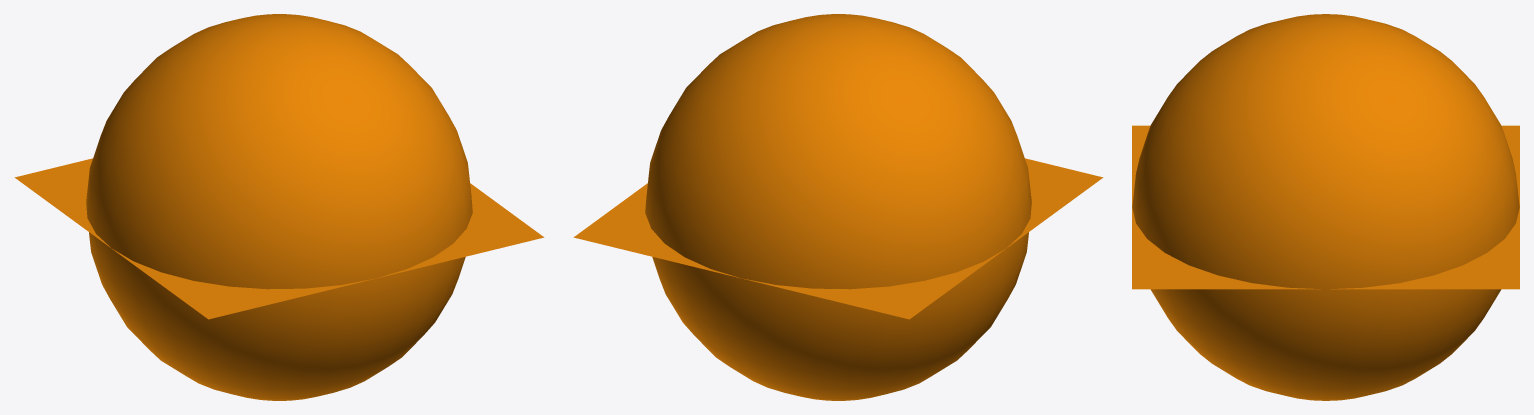
The model's file is projects.glb.
3 renders of one model, left to right at view 1: azimuth 30°, elevation 25°; view 2: azimuth 150°, elevation 25°; view 3: azimuth 270°, elevation 25°, orthographic.
Parts seen in each view (by area): view 1: sky, ground; view 2: sky, ground; view 3: sky, ground.
Part boxes in pixels (x1,y1,x2,y2): sky: (86, 14, 472, 400); ground: (14, 158, 544, 319); sky: (645, 14, 1031, 400); ground: (573, 158, 1103, 319); sky: (1132, 14, 1519, 400); ground: (1132, 125, 1519, 289).
Size of the model in its own units: 91.53 by 91.39 by 91.53.
